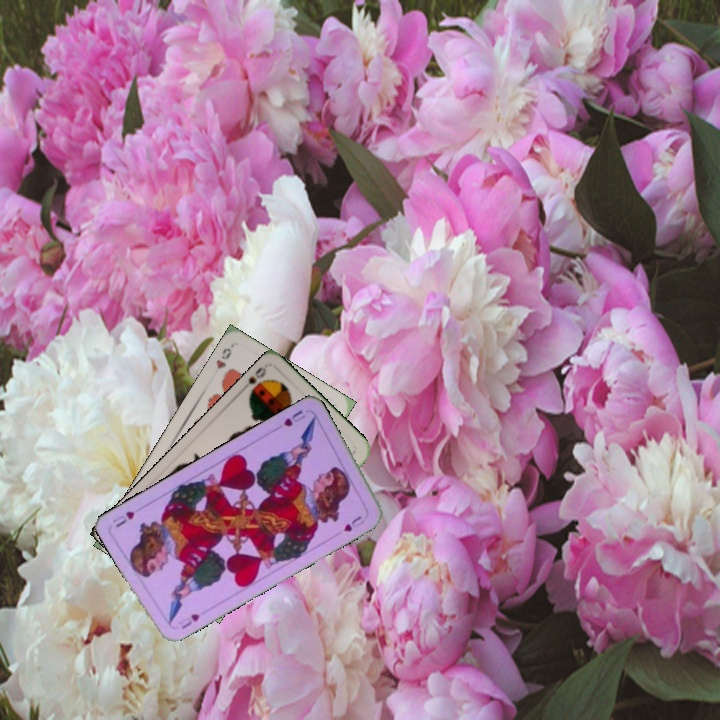H9: (212, 343, 234, 372)
HU: (272, 406, 308, 433), (174, 609, 202, 632)
SO: (244, 363, 271, 401)
